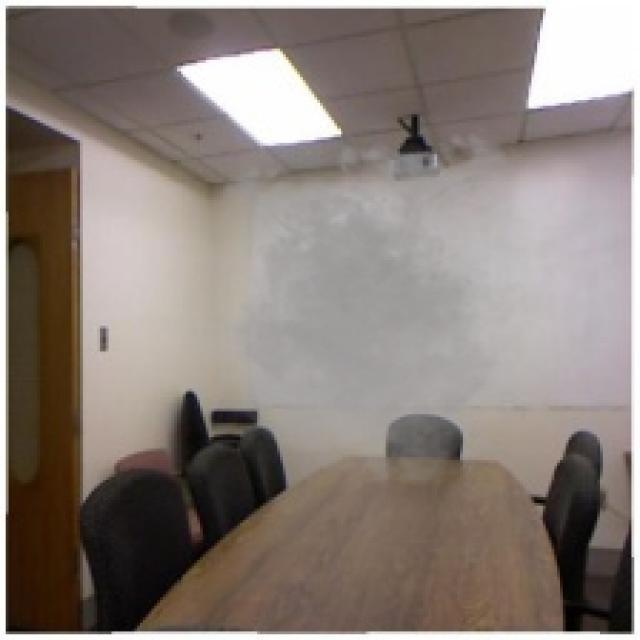Smoke: (163, 122, 566, 492)
